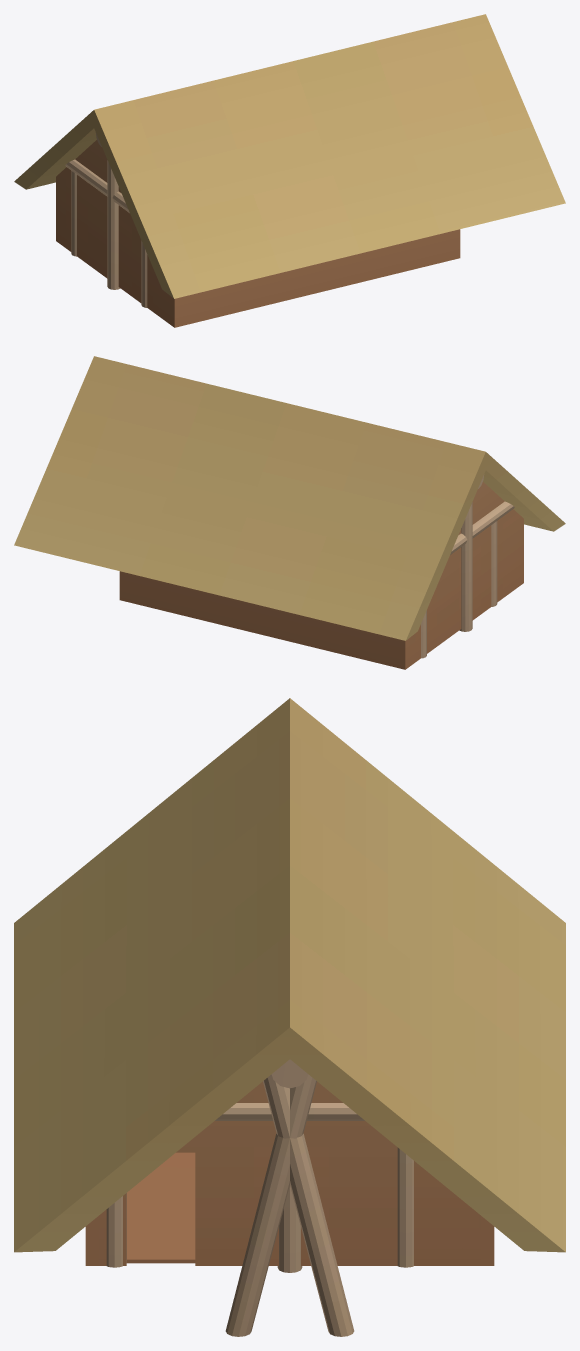
The model's file is house.gltf.
3 views of the same model, one above another, from view 1: azimuth 30°, elevation 25°; view 2: azimuth 150°, elevation 25°; view 3: azimuth 270°, elevation 25° (orthographic). The views are drawn at different scales.
Visible parts, largest first — view 1: Plane, Plane.001, Plane.002, Cylinder.002, Cylinder.005, Cylinder.008, Cylinder.009; view 2: Plane, Plane.001, Plane.002, Cylinder.002, Cylinder.005, Cylinder.009; view 3: Plane, Plane.003, Cylinder.001, Plane.004, Cylinder.007, Cylinder.004, Cylinder.003, Plane.001, Cylinder.006.
Part boxes in pixels (left/top/right/bottom): Plane: left=14, top=14, right=565, bottom=298; Plane.001: left=56, top=173, right=460, bottom=327; Plane.002: left=60, top=140, right=170, bottom=324; Cylinder.002: left=107, top=160, right=120, bottom=289; Cylinder.005: left=65, top=159, right=129, bottom=212; Cylinder.008: left=71, top=170, right=76, bottom=256; Cylinder.009: left=141, top=240, right=147, bottom=307; Plane: left=14, top=356, right=565, bottom=640; Plane.001: left=119, top=515, right=523, bottom=669; Plane.002: left=409, top=482, right=519, bottom=666; Cylinder.002: left=459, top=502, right=472, bottom=631; Cylinder.005: left=450, top=501, right=514, bottom=554; Cylinder.009: left=491, top=521, right=497, bottom=606; Plane: left=14, top=698, right=565, bottom=1252; Plane.003: left=99, top=1081, right=480, bottom=1265; Cylinder.001: left=225, top=1074, right=354, bottom=1336; Plane.004: left=127, top=1152, right=195, bottom=1263; Cylinder.007: left=397, top=1147, right=413, bottom=1267; Cylinder.004: left=215, top=1103, right=364, bottom=1120; Cylinder.003: left=277, top=1186, right=302, bottom=1272; Plane.001: left=85, top=1216, right=494, bottom=1265; Cylinder.006: left=106, top=1193, right=126, bottom=1267.
Size of the model in its own units: 11.89 by 5.44 by 8.42.
Materials: 2 (2 with a texture image).
